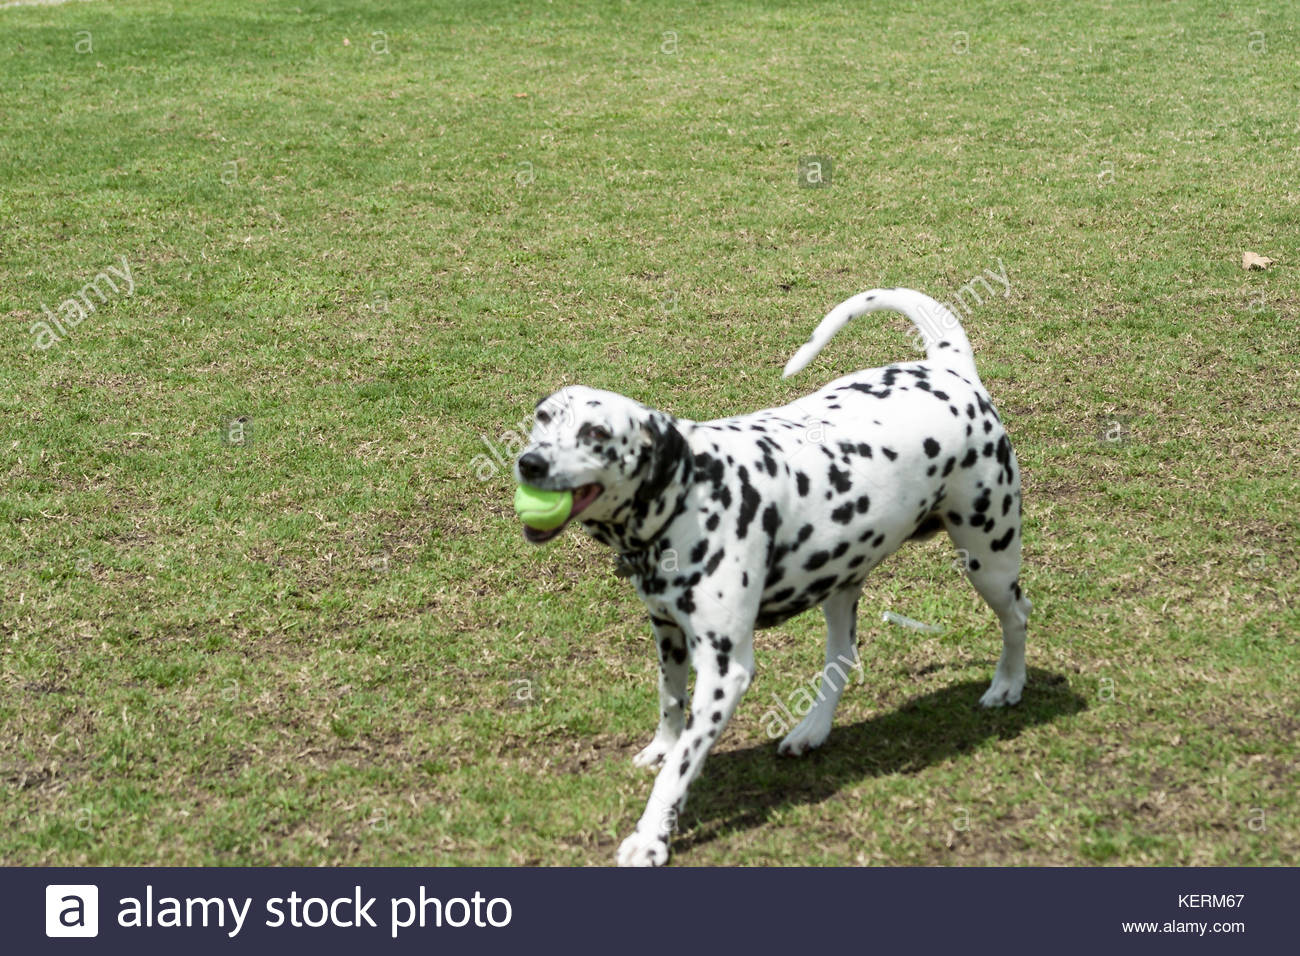tennis_ball: (511, 476, 577, 538)
